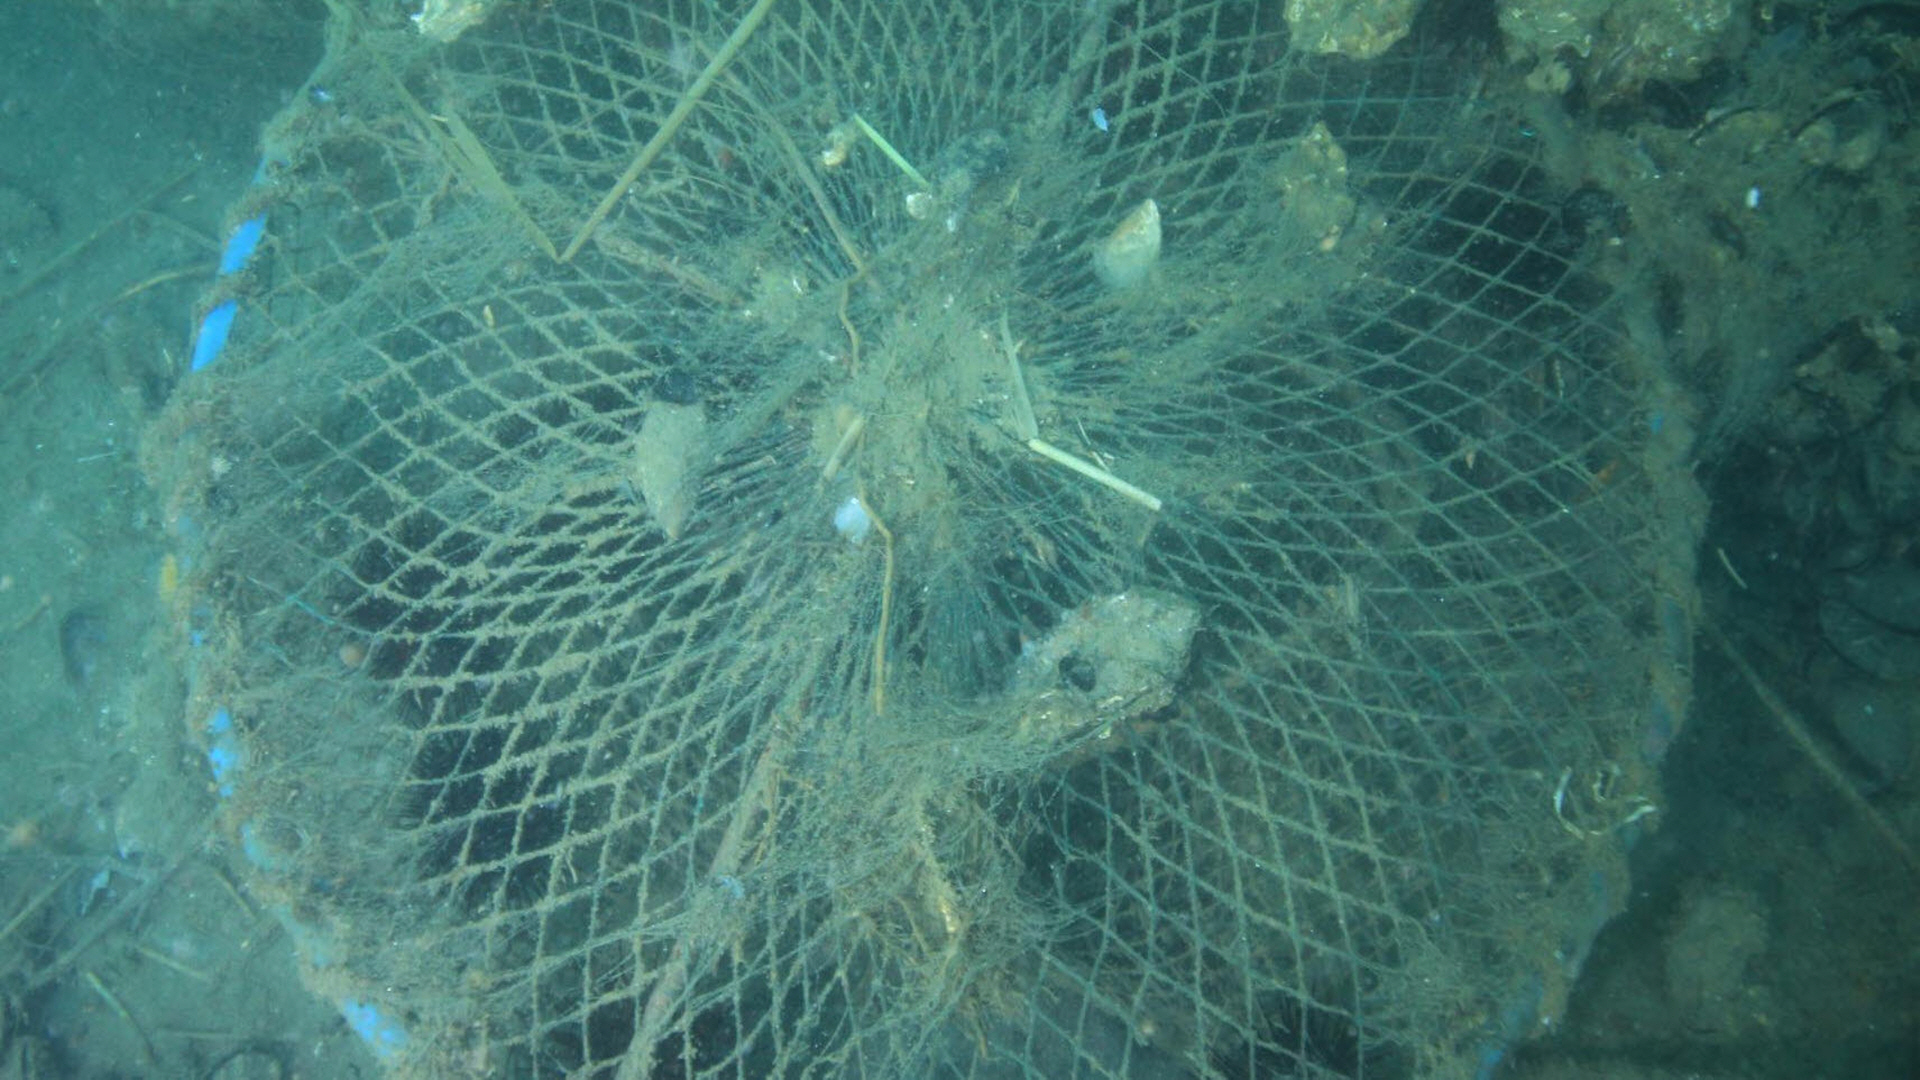circular fish trap: (150, 0, 1706, 1080)
